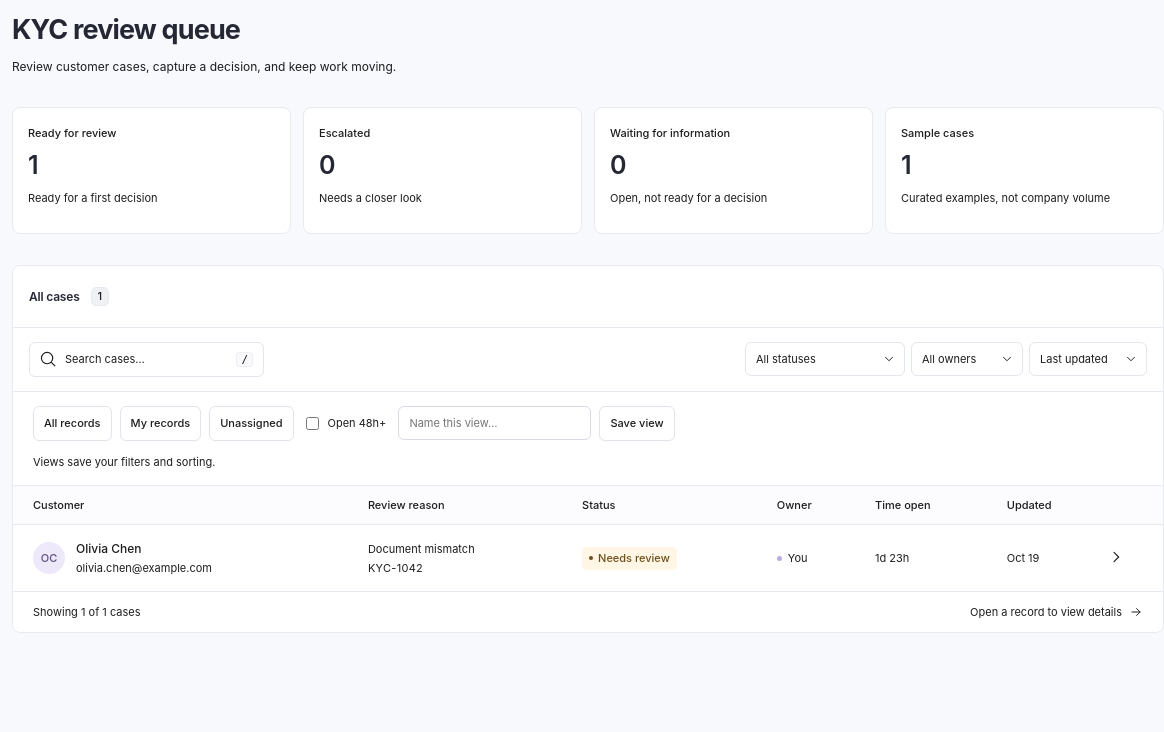
Test case: local workbench integrity › updates age labels and 48h eligibility without interaction and cleans up timers
What coordinates should you click on to do the following:
click the checkbox labelled "Open 48h+"
I would click on:
 (312, 423)
Its box is [306,417,318,430].
Wait 60000 ms
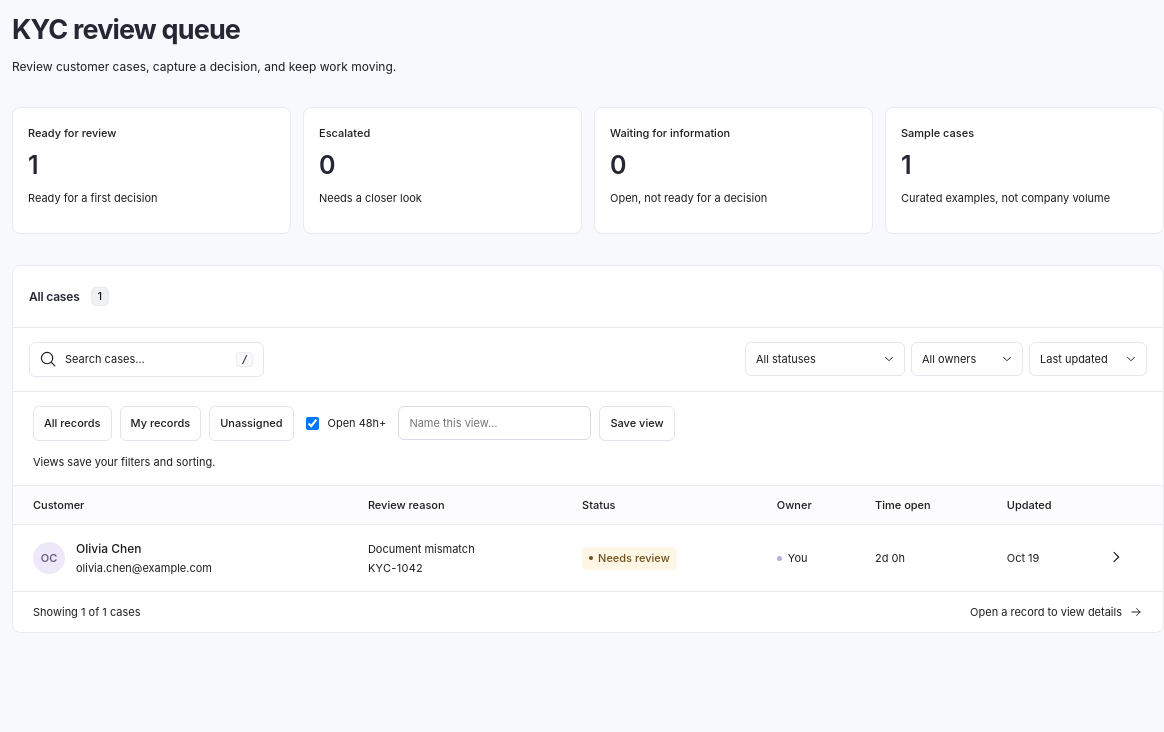
Expected: the button with aria-label "Open Olivia Chen" is shown, [33,541,212,575]
Now the text "2d 0h" is shown, box [862,525,994,591]
